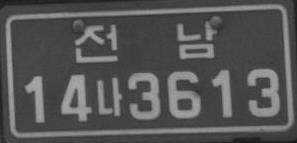1: (21, 74, 51, 124), (208, 68, 236, 119)
3: (245, 67, 281, 119), (126, 71, 161, 121)
4: (59, 73, 92, 123)
6: (166, 69, 202, 119)
나: (95, 76, 123, 117)
전남_D: (73, 18, 217, 64)
